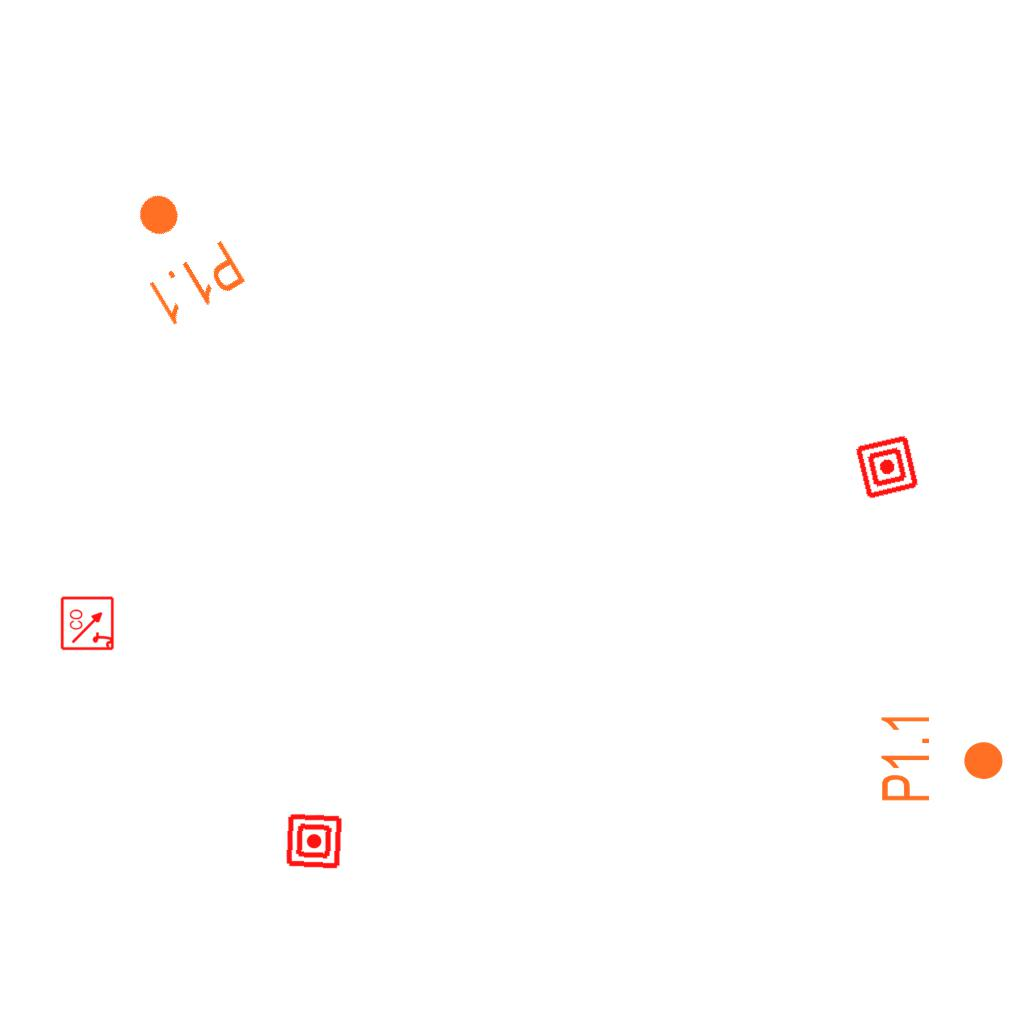Downlight_LED_Einbauleuchten_Flur: (104, 173, 251, 331), (878, 711, 1006, 804)
NAM-Nichtautomatischer_Melder: (853, 433, 921, 501), (284, 811, 344, 871)
ROA_Rauchmelder_optisch_mit_Signalgeber_(Sockelsirene): (60, 595, 116, 651)
